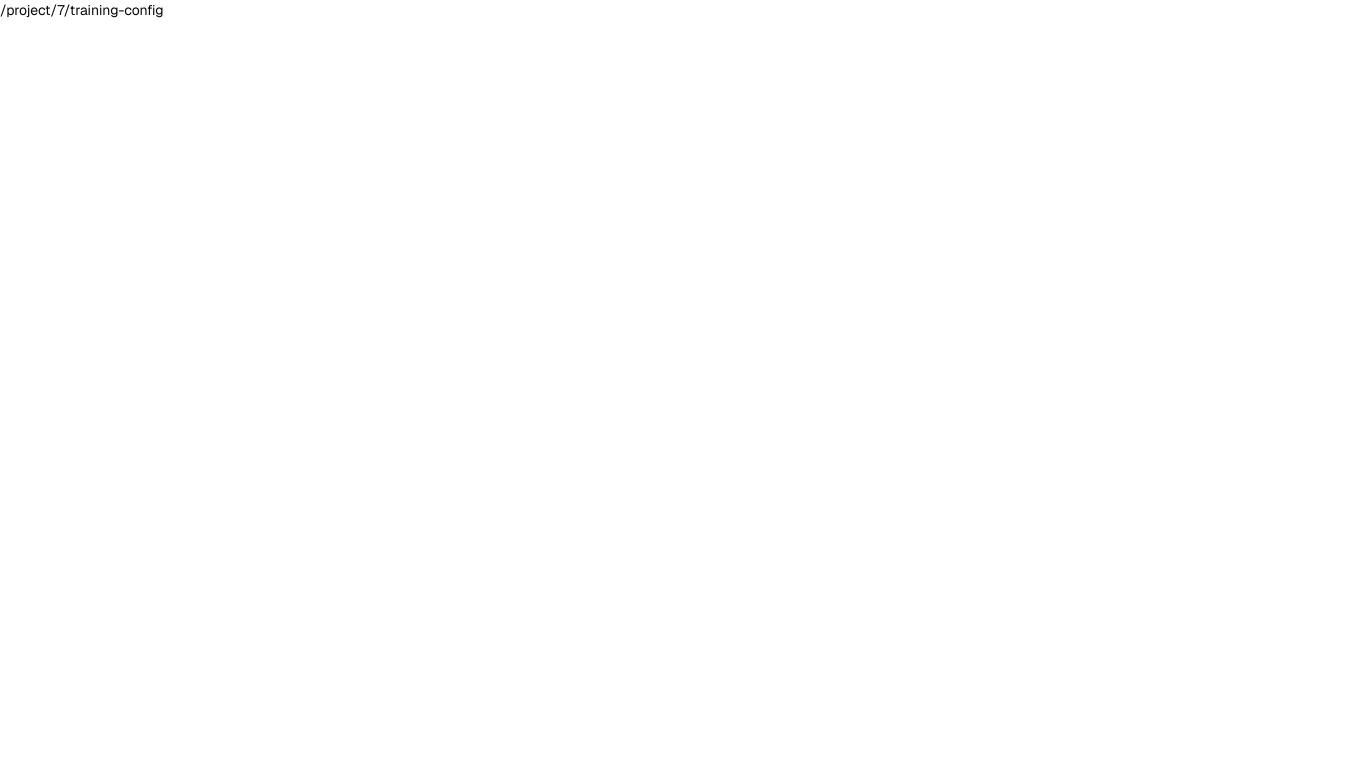
Test case: CommandPalette › shows the empty state when nothing matches
Step 1. Type keys "{Meta>}k{/Meta}"
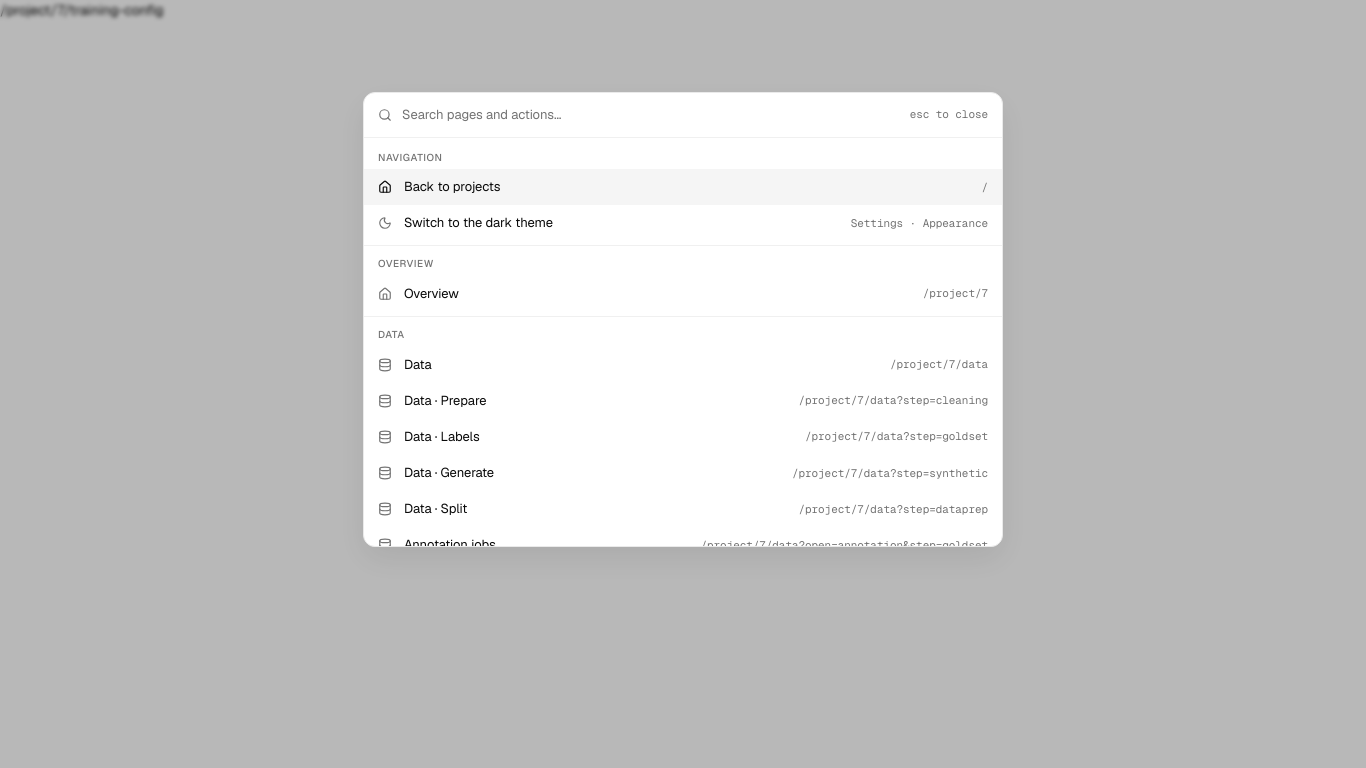
Check: the dialog is shown, box [363, 92, 1003, 548]
Step 2. Type "zzzzzz-no-such-thing" into the field named "Command query" → (651, 115), box [402, 105, 900, 125]
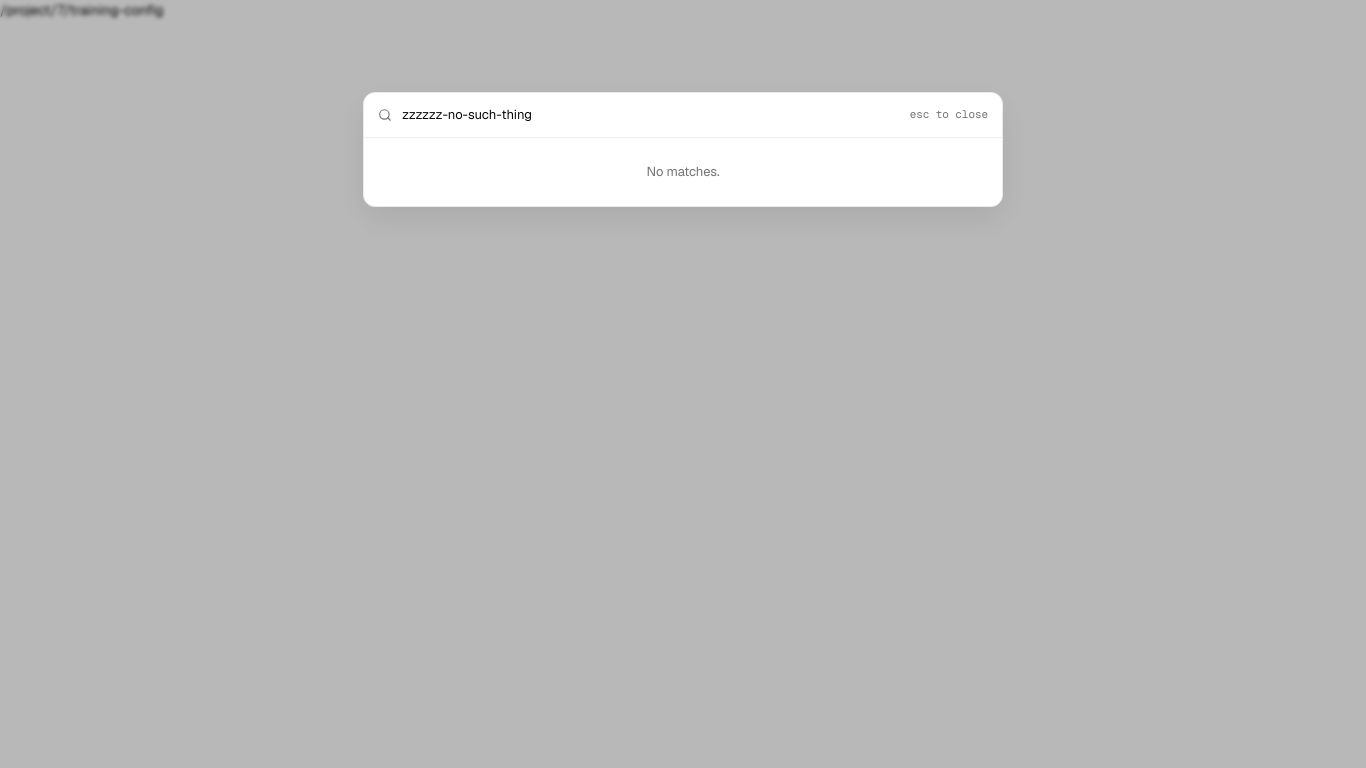
Check: the text "No matches." is shown, box [646, 163, 720, 180]
